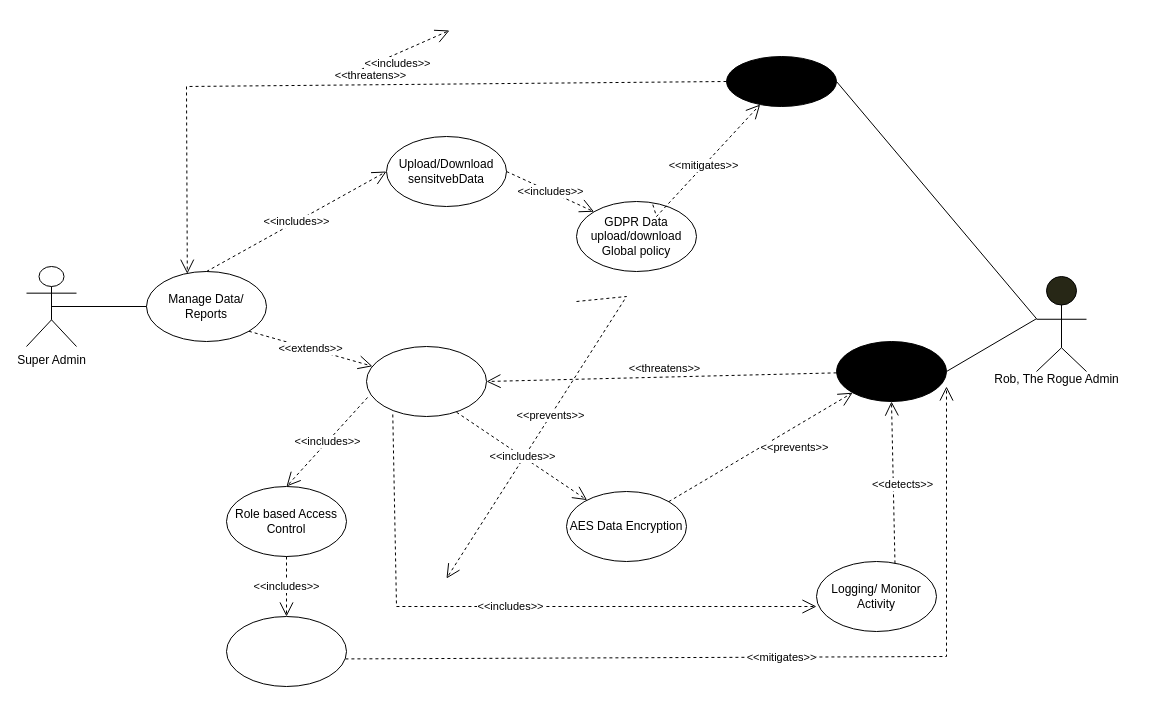
This 1149x704 diagram has some shape labels left out. Here are the shapes that lost their labels. From the top down, the centre of each, then its label:
At [781,81]: "Collect Data".
At [426,381]: "Merge patient reports".
At [891,371]: "Data Tampering".
At [286,651]: "Multi Factor Access Code".
